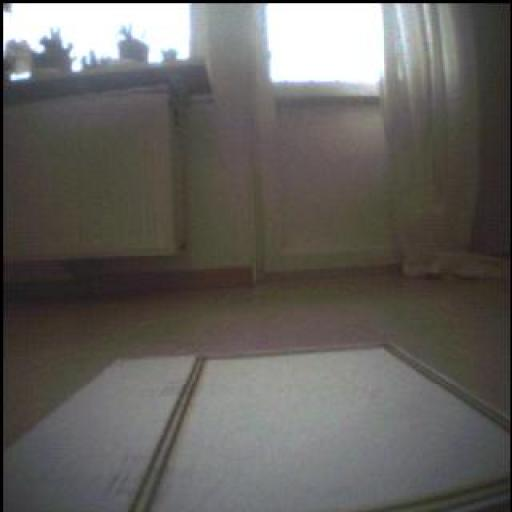Pad: (5, 347, 512, 512)
